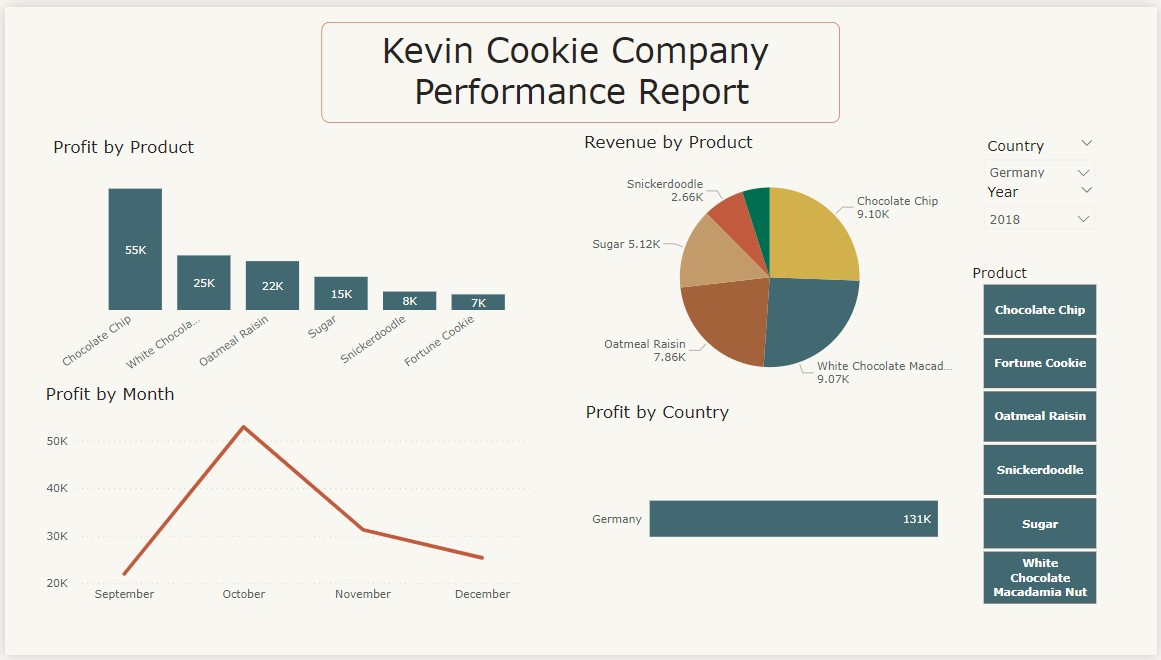

Layout of this report page (visuals, bound fields, positions):
{"tool":"powerbi","page":{"name":"Page 1","canvas":[1280,720],"ordinal":0},"visuals":[{"type":"slicer","fields":{"Values":["Cookie Sales.Country"]},"box":[1077.6,137.5,142.4,300.9],"z":0},{"type":"textbox","box":[352,16,576,112],"z":1000},{"type":"slicer","fields":{"Values":["Cookie Sales.Date.Variation.Date Hierarchy.Year"]},"box":[1077.6,189.3,142.4,90.6],"z":2000},{"type":"lineChart","title":"Profit by Month","fields":{"Category":["Cookie Sales.Date.Variation.Date Hierarchy.Month"],"Y":["Sum(Cookie Sales.Profit)"]},"box":[40.4,419.1,548.5,250.8],"z":3000},{"type":"clusteredColumnChart","title":"Profit by Product","fields":{"Y":["Sum(Cookie Sales.Profit)"],"Category":["Cookie Sales.Product"]},"box":[48,144,544,272],"z":4000},{"type":"pieChart","title":"Revenue by Product","fields":{"Category":["Cookie Sales.Product"],"Y":["Avg(Cookie Sales.Revenue)"]},"box":[639.1,137.5,422.3,300.9],"z":5000},{"type":"slicer","fields":{"Values":["Cookie Sales.Product"]},"box":[1061.4,279.9,174.7,389.9],"z":6000},{"type":"barChart","title":"Profit by Country","fields":{"Category":["world_population.Country"],"Y":["Sum(Cookie Sales.Profit)"]},"box":[640.7,438.5,422.3,231.4],"z":7000}]}

Visuals, with their boxes in screenshot pixels (x1, y1, x2, y2), scaled from the page's 1280x720 canvas onto the 1161x660 screenshot:
slicer - Cookie Sales.Country: bbox(977, 126, 1107, 402)
textbox: bbox(319, 15, 842, 117)
slicer - Cookie Sales.Date.Variation.Date Hierarchy.Year: bbox(977, 174, 1107, 257)
"Profit by Month" lineChart: bbox(37, 384, 534, 614)
"Profit by Product" clusteredColumnChart: bbox(44, 132, 537, 381)
"Revenue by Product" pieChart: bbox(580, 126, 963, 402)
slicer - Cookie Sales.Product: bbox(963, 257, 1121, 614)
"Profit by Country" barChart: bbox(581, 402, 964, 614)
